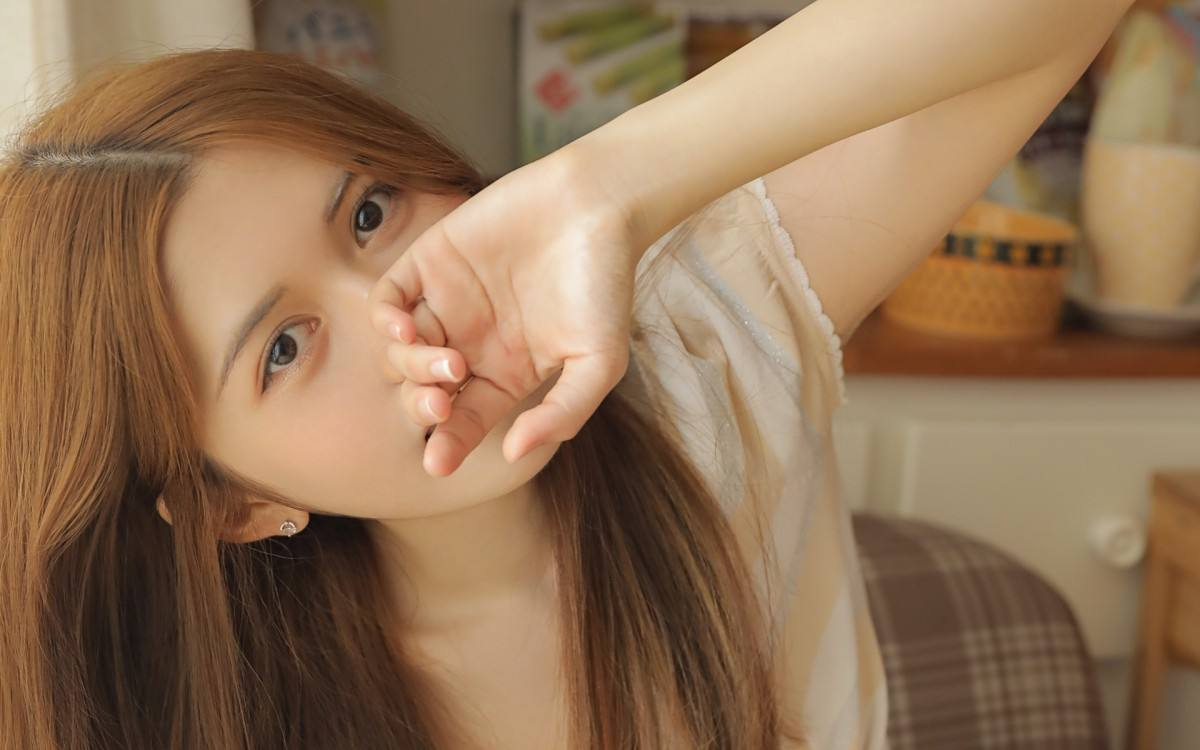person: (35, 61, 906, 678)
